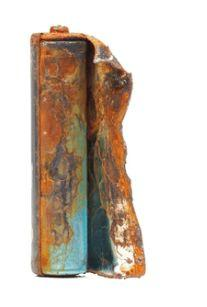battery: (27, 21, 149, 282)
